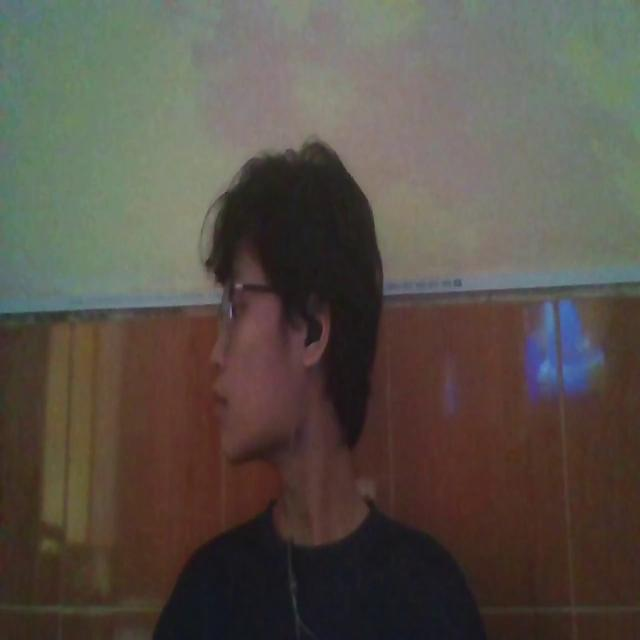student: (126, 128, 487, 640)
